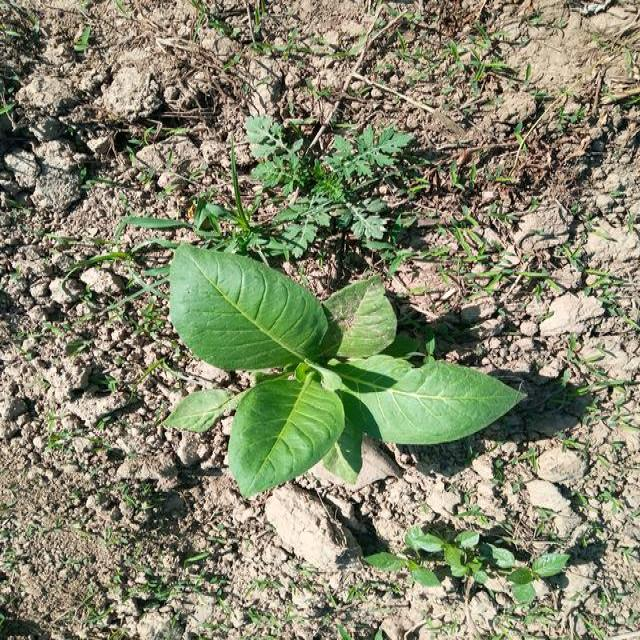crop: (166, 238, 534, 500)
